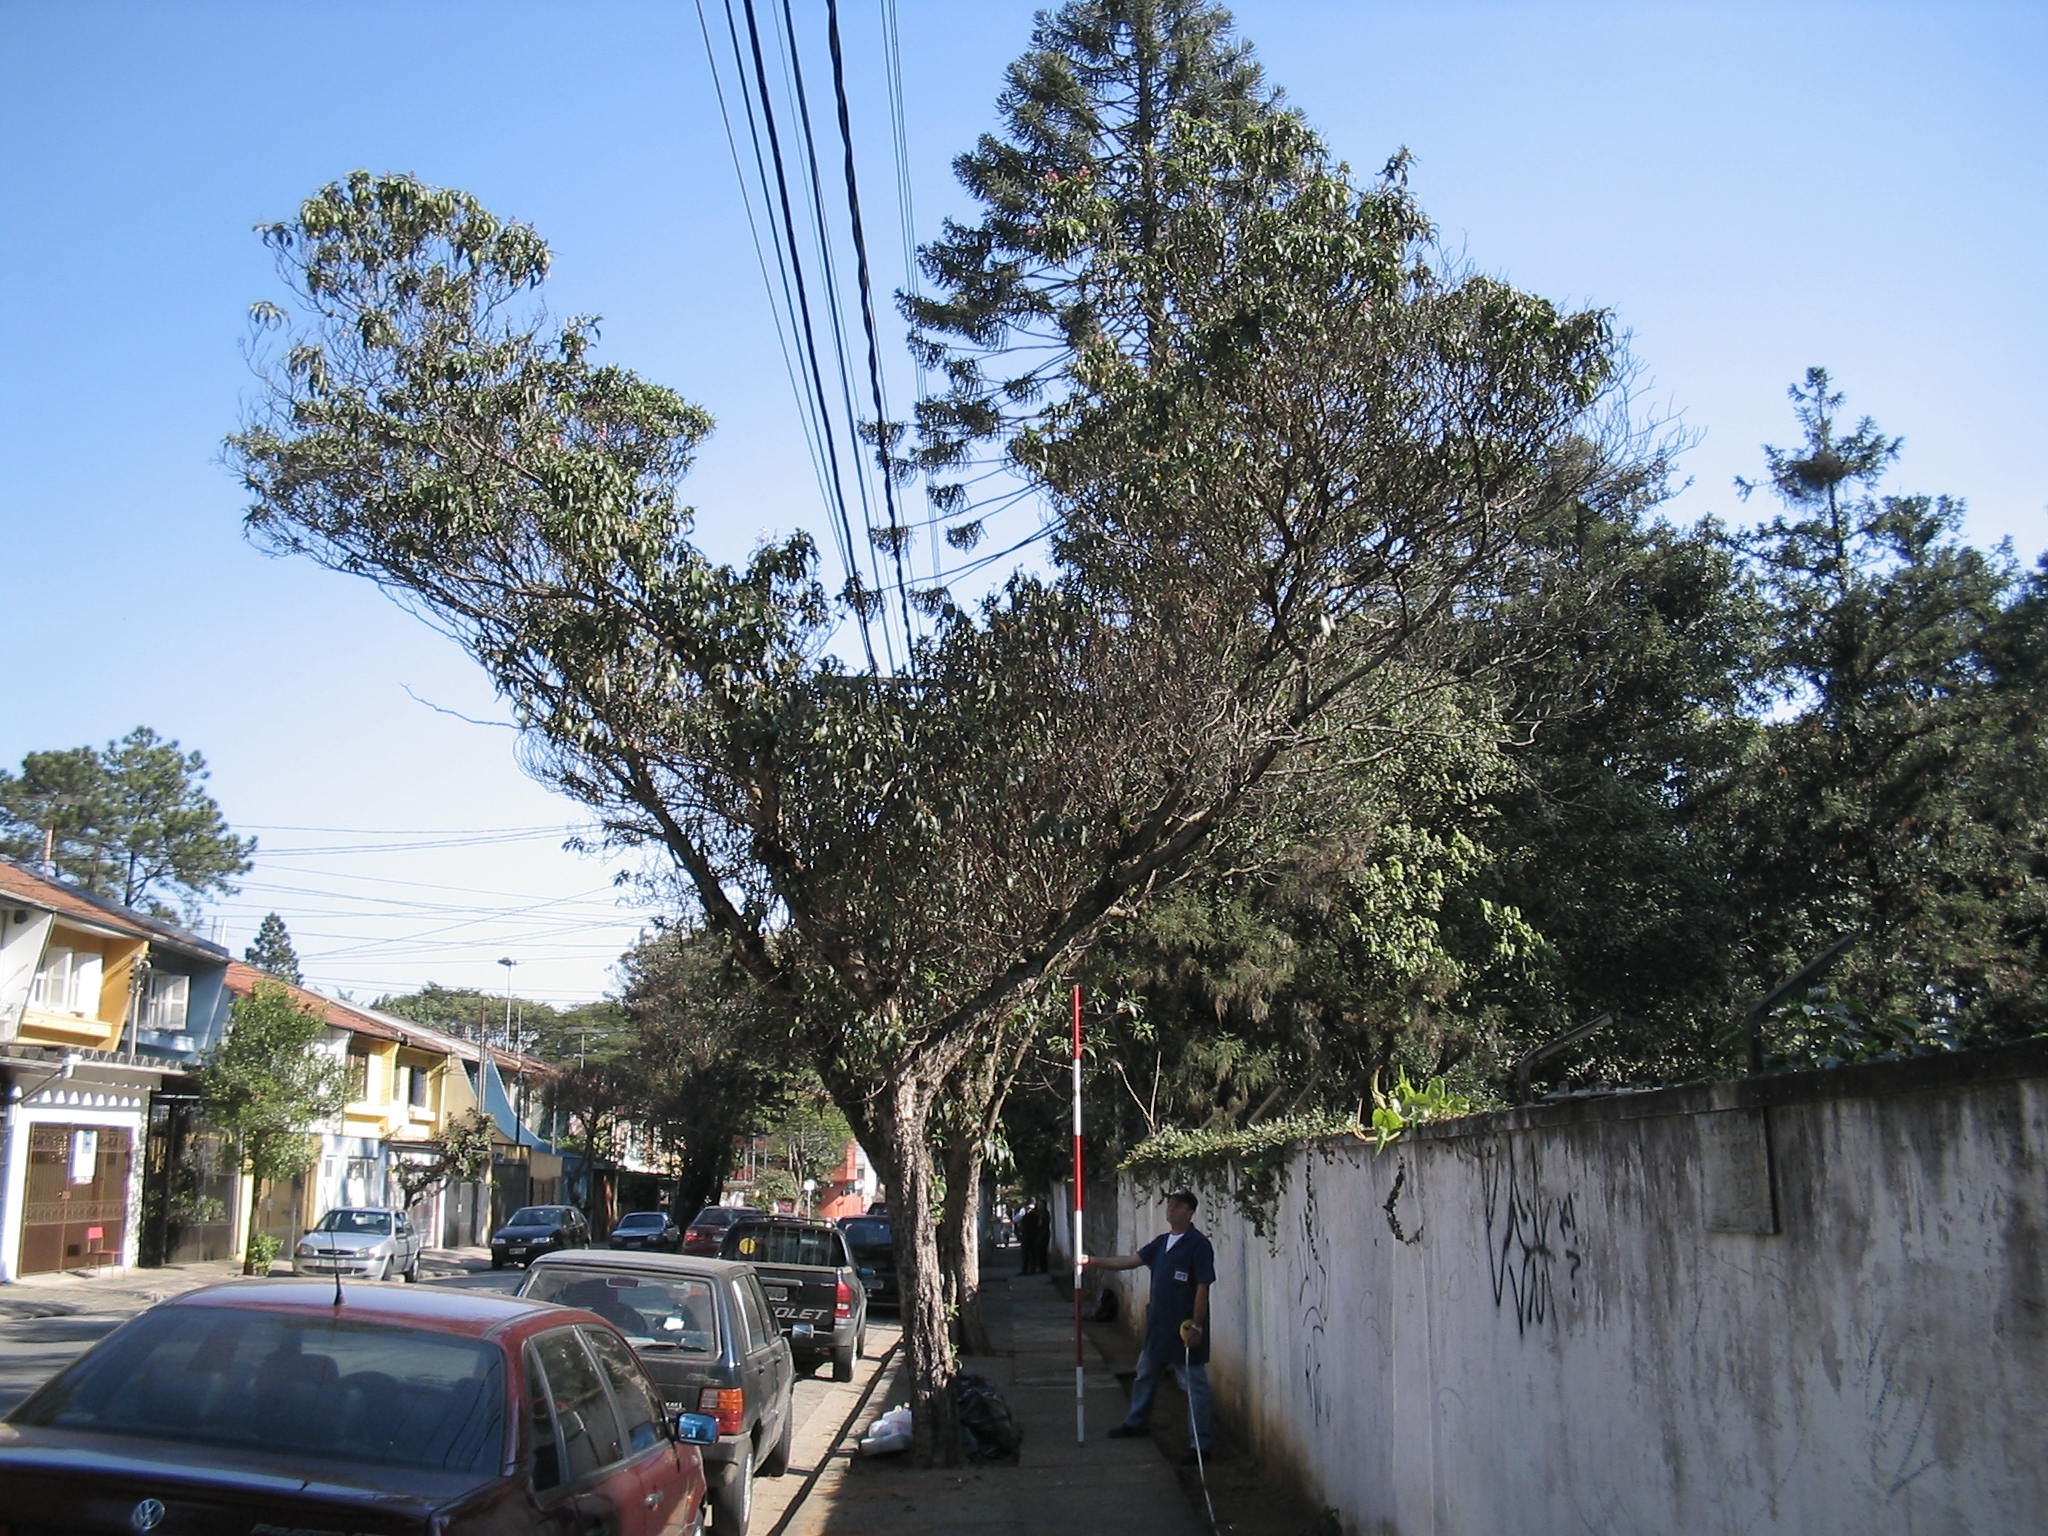crown: (223, 106, 1622, 981)
stem: (845, 1125, 989, 1467)
stick: (1035, 983, 1118, 1450)
tree: (218, 103, 1629, 1468)
